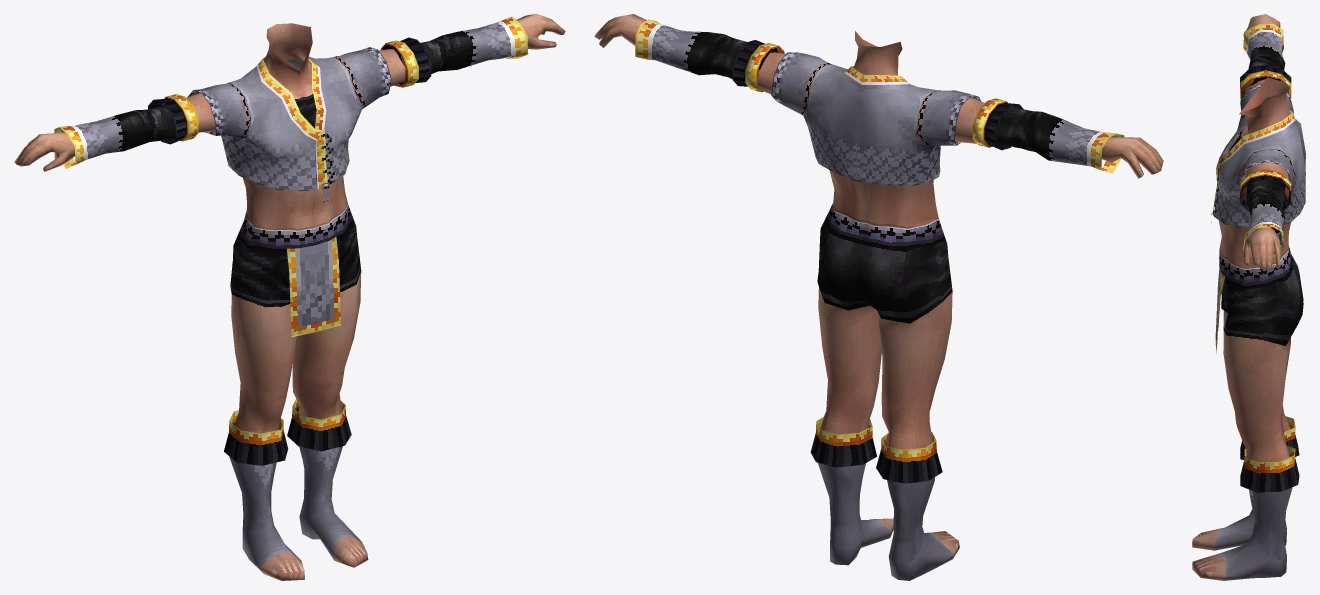
The model's file is m_body019.obj.
3 renders of one model, left to right at view 1: azimuth 30°, elevation 25°; view 2: azimuth 150°, elevation 25°; view 3: azimuth 270°, elevation 25°, orthographic. The views are drawn at different scales.
Parts seen in each view (by area): view 1: editpl_m-0000-83, editpl_m-0000-82, editpl_m-0000-81; view 2: editpl_m-0000-83, editpl_m-0000-82, editpl_m-0000-81; view 3: editpl_m-0000-83, editpl_m-0000-82, editpl_m-0000-81.
Boxes of the visible parts, <box> form: editpl_m-0000-83: <box>224,204,368,580</box>; editpl_m-0000-82: <box>186,23,405,230</box>; editpl_m-0000-81: <box>14,14,565,171</box>; editpl_m-0000-83: <box>810,203,959,580</box>; editpl_m-0000-82: <box>757,31,984,228</box>; editpl_m-0000-81: <box>594,14,1163,178</box>; editpl_m-0000-83: <box>1192,245,1303,580</box>; editpl_m-0000-82: <box>1211,77,1305,268</box>; editpl_m-0000-81: <box>1240,14,1291,269</box>.
Bounding box in the file's own units: 178 × 159 × 34.72.
Materials: 3 (3 with a texture image).
